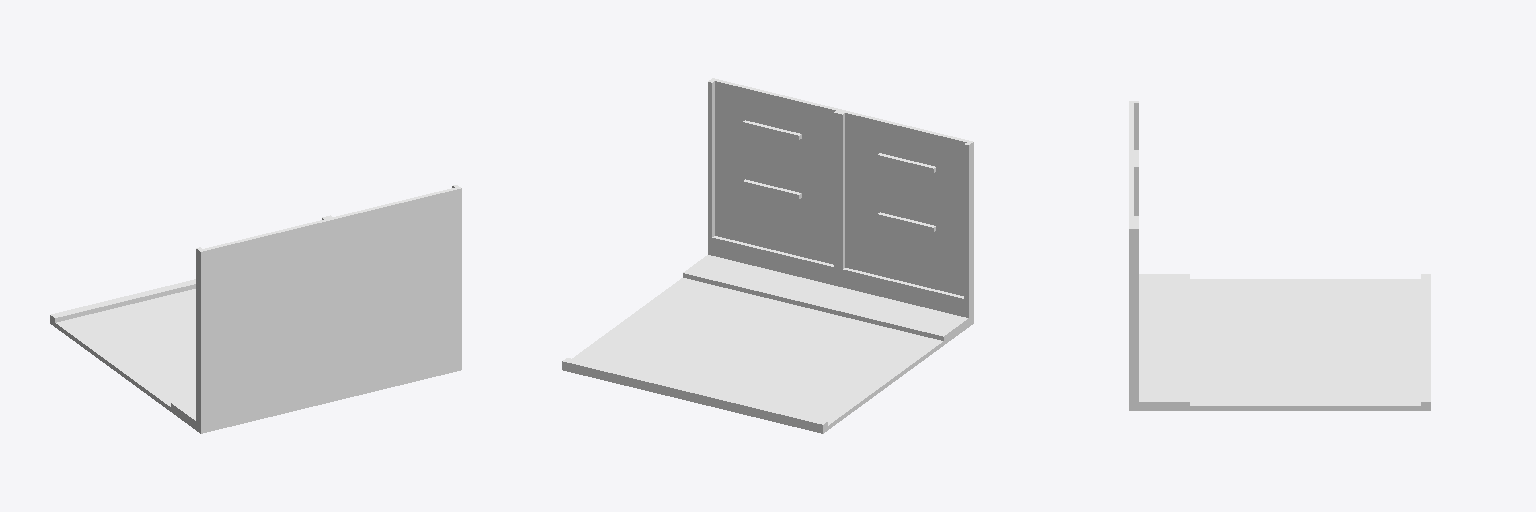
File: Location1.obj
3 views of the same model, side by side, from view 1: azimuth 30°, elevation 25°; view 2: azimuth 150°, elevation 25°; view 3: azimuth 270°, elevation 25° (orthographic).
Visible parts, largest first — view 1: object 1; view 2: object 1; view 3: object 1.
Part boxes in pixels (left/top/right/bottom): object 1: left=50, top=185, right=461, bottom=433; object 1: left=562, top=78, right=973, bottom=433; object 1: left=1129, top=101, right=1430, bottom=410.
Bounding box in the file's own units: 6 × 4 × 6.